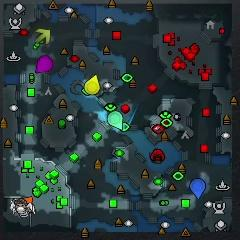p1: (190, 178, 206, 199)
p2: (108, 111, 123, 129)
p3: (36, 56, 54, 73)
p4: (85, 75, 100, 94)
p5: (24, 196, 33, 203)
x2: (35, 28, 51, 44)
